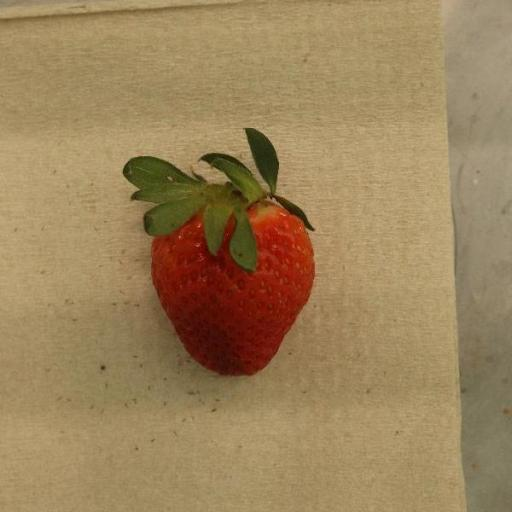Strawberry: (122, 128, 315, 377)
